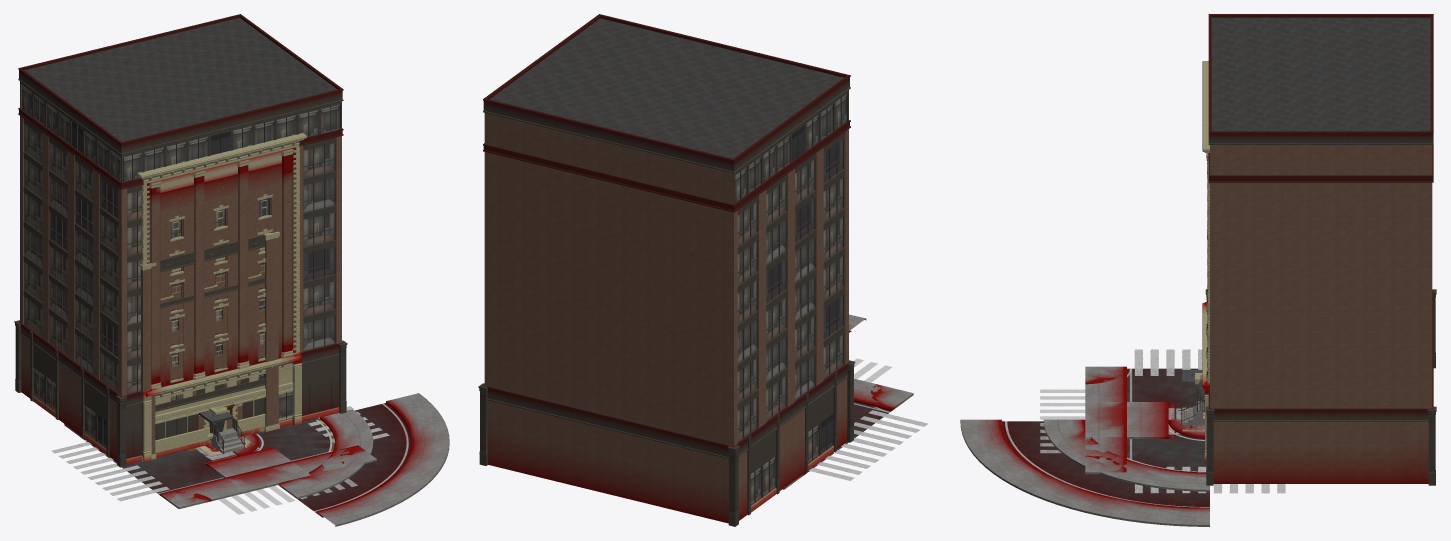
Rendered from city.glb.
3 renders of one model, left to right at view 1: azimuth 30°, elevation 25°; view 2: azimuth 150°, elevation 25°; view 3: azimuth 270°, elevation 25°, orthographic. The views are drawn at different scales.
Visible parts, largest first — view 1: Building_Large_2, Building_Medium_2_001, Building_Small_1, Street_4WayIntersection, Street_Curve_4LaneShort, Street_Asphalt_Curve_4Lane_Short, Street_TIntersection, Street_Curve_2Lane, Street_2Lane, Street_4Lane, Street_Asphalt_Curve_2Lane; view 2: Building_Large_2, Street_4WayIntersection, Street_TIntersection; view 3: Building_Large_2, Street_Curve_4LaneShort, Street_4WayIntersection, Street_Asphalt_Curve_4Lane_Short, Street_Curve_2Lane, Street_TIntersection, Building_Medium_2_001, Street_2Lane, Street_4Lane, Street_Asphalt_Curve_2Lane.
Part boxes in pixels (<box>): Building_Large_2: <box>14,14,347,467</box>; Building_Medium_2_001: <box>137,133,306,462</box>; Building_Small_1: <box>140,231,279,461</box>; Street_4WayIntersection: <box>52,406,389,514</box>; Street_Curve_4LaneShort: <box>257,393,449,526</box>; Street_Asphalt_Curve_4Lane_Short: <box>255,403,411,517</box>; Street_TIntersection: <box>52,407,389,508</box>; Street_Curve_2Lane: <box>232,409,373,498</box>; Street_2Lane: <box>187,439,291,477</box>; Street_4Lane: <box>186,448,310,492</box>; Street_Asphalt_Curve_2Lane: <box>254,425,334,489</box>; Building_Large_2: <box>478,14,855,526</box>; Street_4WayIntersection: <box>782,356,927,489</box>; Street_TIntersection: <box>809,378,926,480</box>; Building_Large_2: <box>1205,14,1436,485</box>; Street_Curve_4LaneShort: <box>960,419,1209,526</box>; Street_4WayIntersection: <box>1040,349,1285,493</box>; Street_Asphalt_Curve_4Lane_Short: <box>1002,421,1209,506</box>; Street_Curve_2Lane: <box>1043,419,1209,491</box>; Street_TIntersection: <box>1085,350,1284,492</box>; Building_Medium_2_001: <box>1202,61,1209,461</box>; Street_2Lane: <box>1127,402,1201,438</box>; Street_4Lane: <box>1085,402,1202,438</box>; Street_Asphalt_Curve_2Lane: <box>1127,439,1204,470</box>.
Bounding box in the file's own units: 30.33 × 28.2 × 34.32.
Materials: 15 (13 with a texture image).
